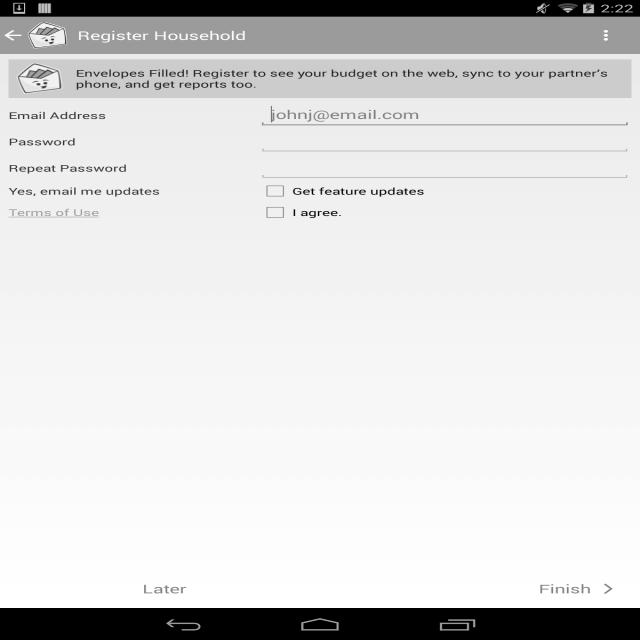Button: (9, 572, 320, 604), (320, 572, 595, 604)
CheckBox: (258, 180, 632, 202), (258, 202, 632, 223)
EditText: (258, 101, 632, 128), (258, 128, 632, 154), (258, 154, 632, 180)
ImageButton: (571, 16, 640, 54)
ImageView: (22, 19, 73, 52), (14, 62, 65, 94), (0, 28, 26, 44), (595, 580, 621, 596)
TextView: (76, 67, 626, 90), (9, 109, 258, 122), (9, 135, 258, 148), (9, 206, 258, 219), (9, 162, 258, 174), (9, 185, 258, 197), (77, 27, 246, 43)
